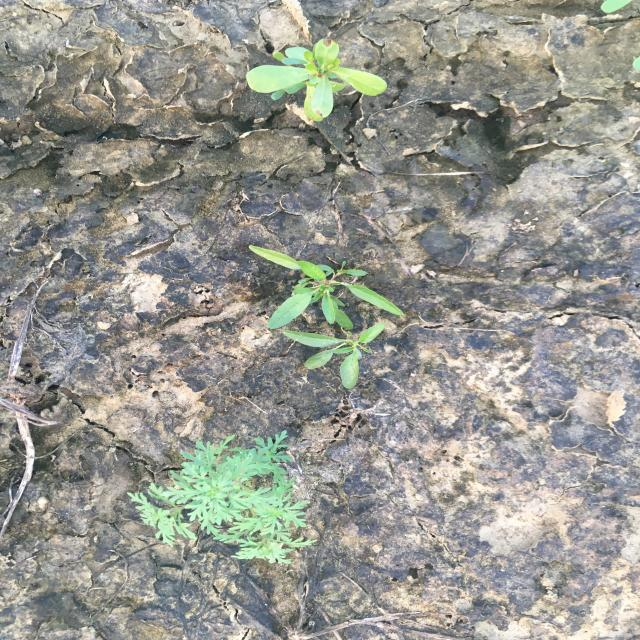Purslane: (243, 38, 390, 124)
Ragweed: (125, 429, 320, 566)
Waterhemp: (247, 243, 406, 330), (281, 322, 388, 390)
